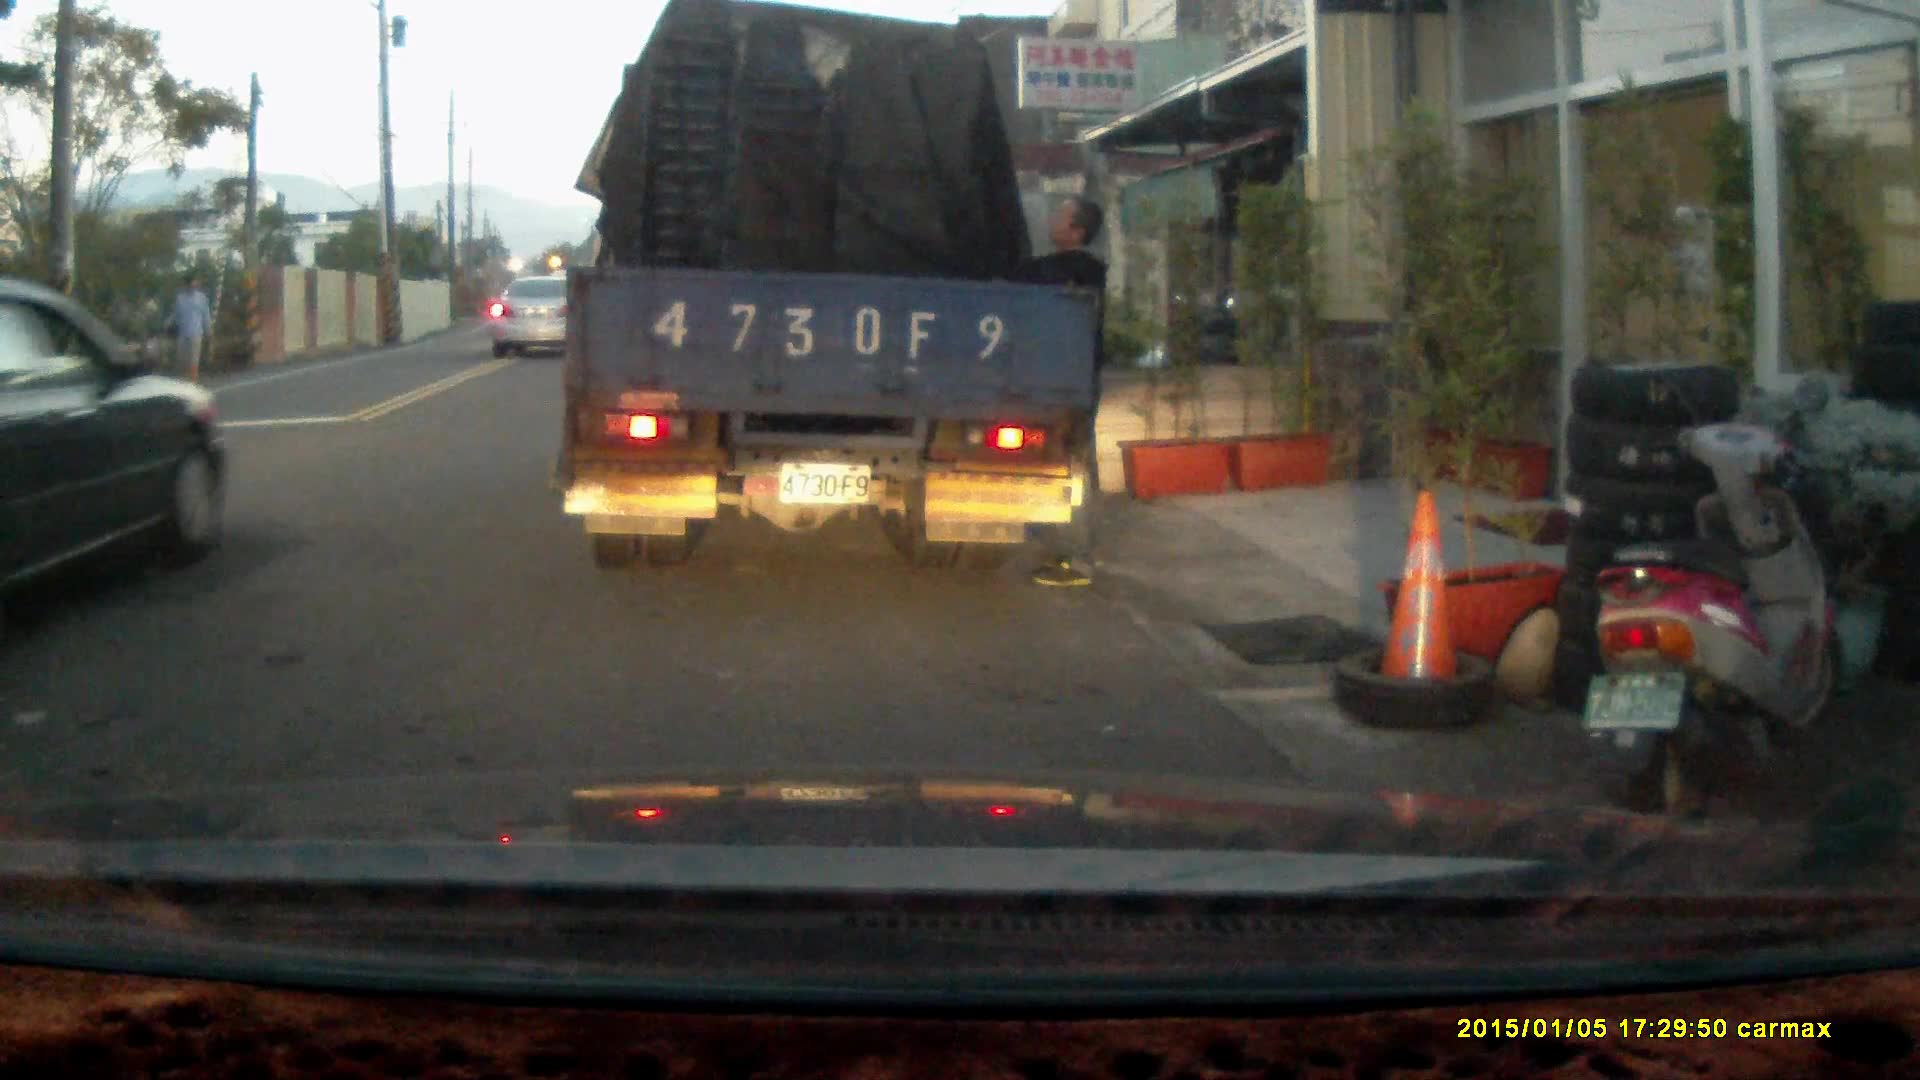pedestrian: (1000, 195, 1108, 588), (166, 270, 214, 390)
vehicle: (565, 23, 1097, 572), (1, 274, 237, 653), (488, 269, 593, 357)
